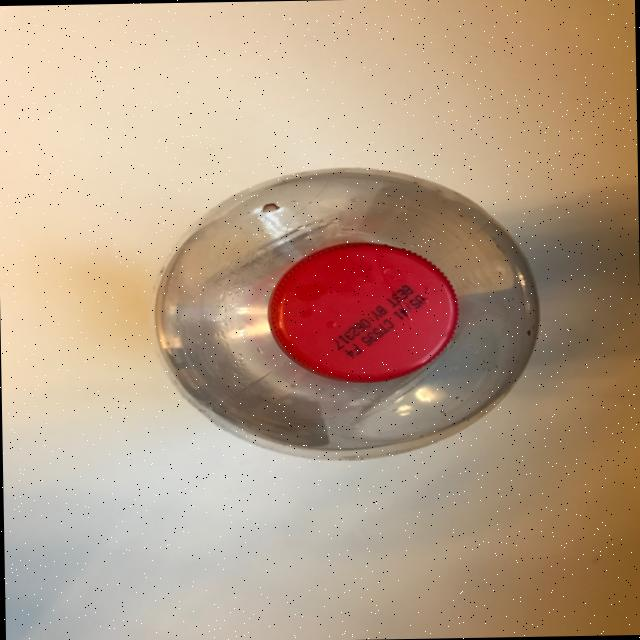plastic: (149, 162, 543, 464)
